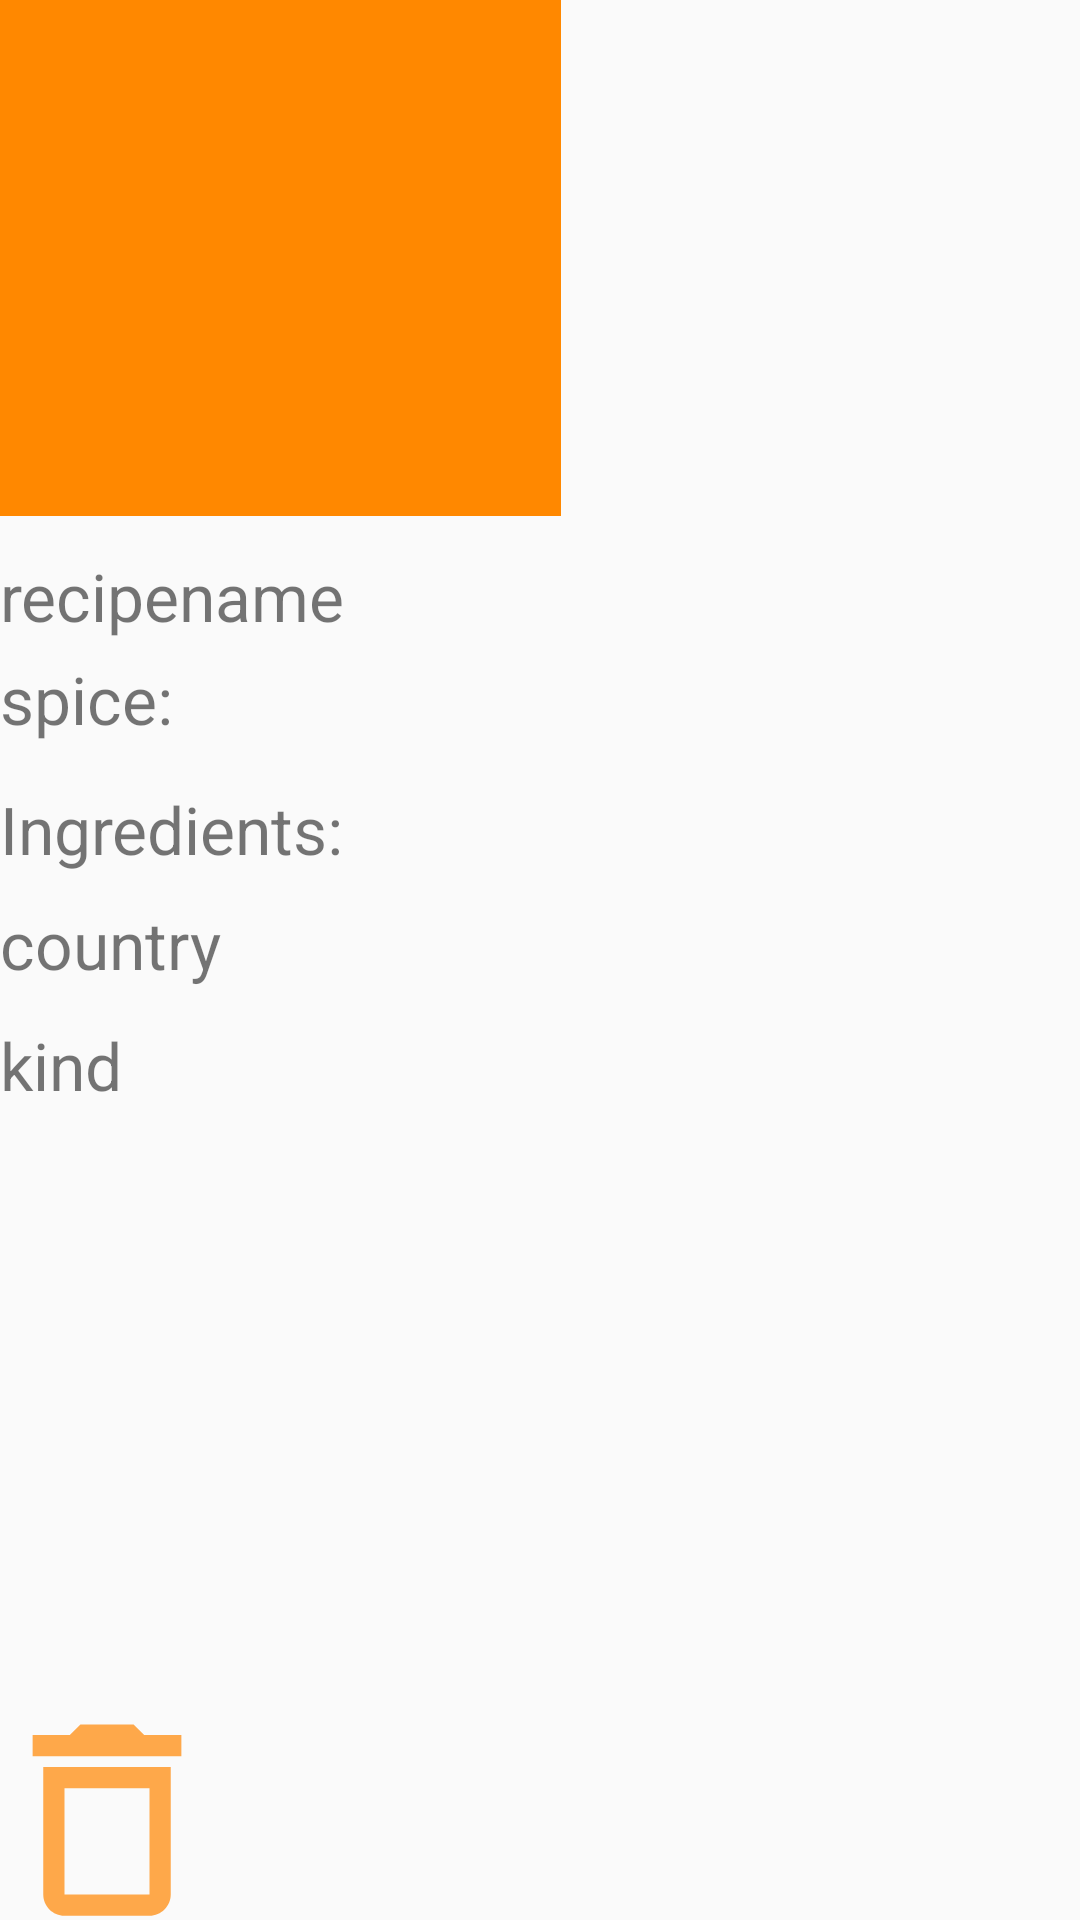

Screen size 1080 × 1920. Icon name, then its center in pixels as point (x, y):
delete: point (107, 1820)
